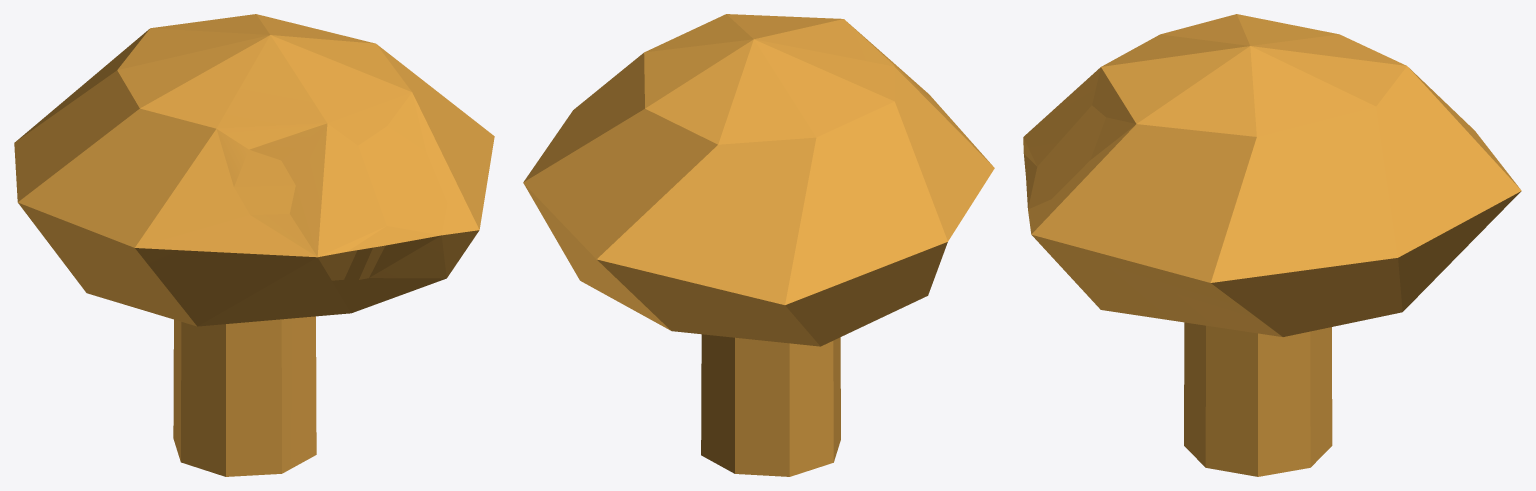
File: mushroom-magical-champignon-c.fbx
3 renders of one model, left to right at view 1: azimuth 30°, elevation 25°; view 2: azimuth 150°, elevation 25°; view 3: azimuth 270°, elevation 25°, orthographic. The views are drawn at different scales.
Visible parts, largest first — view 1: mushroom-magical-champignon-c; view 2: mushroom-magical-champignon-c; view 3: mushroom-magical-champignon-c.
Boxes of the visible parts, x1,y1,x2,y2 form: mushroom-magical-champignon-c: (14, 14, 494, 476); mushroom-magical-champignon-c: (523, 14, 994, 476); mushroom-magical-champignon-c: (1023, 14, 1521, 476).
Size of the model in its own units: 0.2945 by 0.2677 by 0.295.
